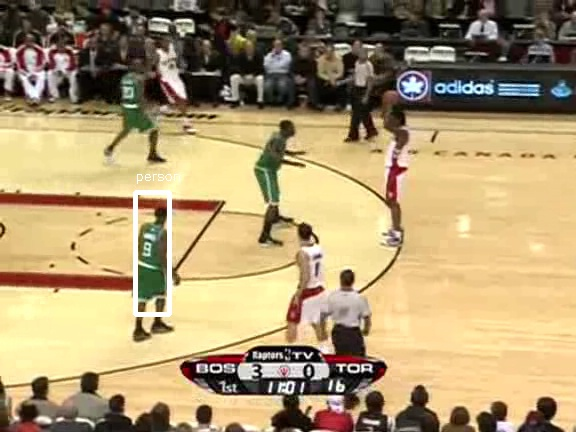person: (135, 225, 169, 306), (134, 225, 168, 306), (136, 225, 170, 306), (135, 224, 169, 305), (135, 226, 169, 307)
target_negative: (128, 67, 394, 244), (359, 142, 504, 279), (435, 255, 541, 427), (464, 182, 527, 249), (341, 409, 416, 426), (521, 220, 536, 282)
